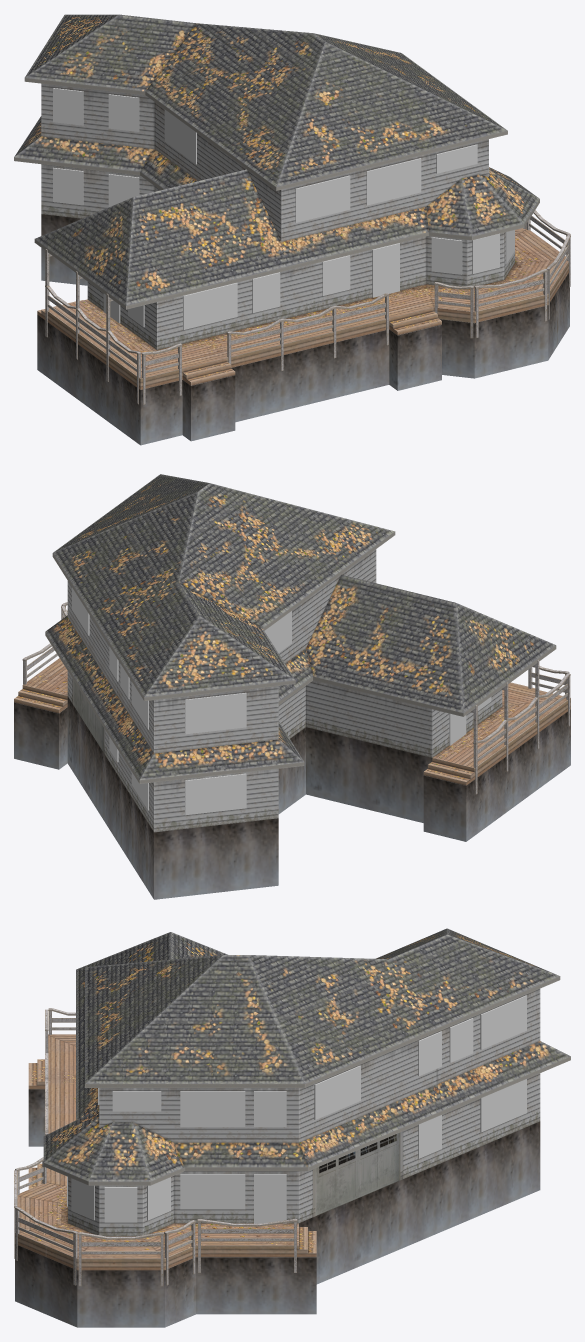
Rendered from Infested House.fbx.
3 renders of one model, top to bottom at view 1: azimuth 30°, elevation 25°; view 2: azimuth 150°, elevation 25°; view 3: azimuth 270°, elevation 25°, orthographic. The views are drawn at different scales.
Parts seen in each view (by area): view 1: Plane.001; view 2: Plane.001; view 3: Plane.001.
Part boxes in pixels (box(x1,y1,x2,y2)): Plane.001: box(14, 14, 570, 445); Plane.001: box(14, 474, 570, 899); Plane.001: box(14, 928, 570, 1327).
Bounding box in the file's own units: 6.56 × 3.86 × 6.85.
